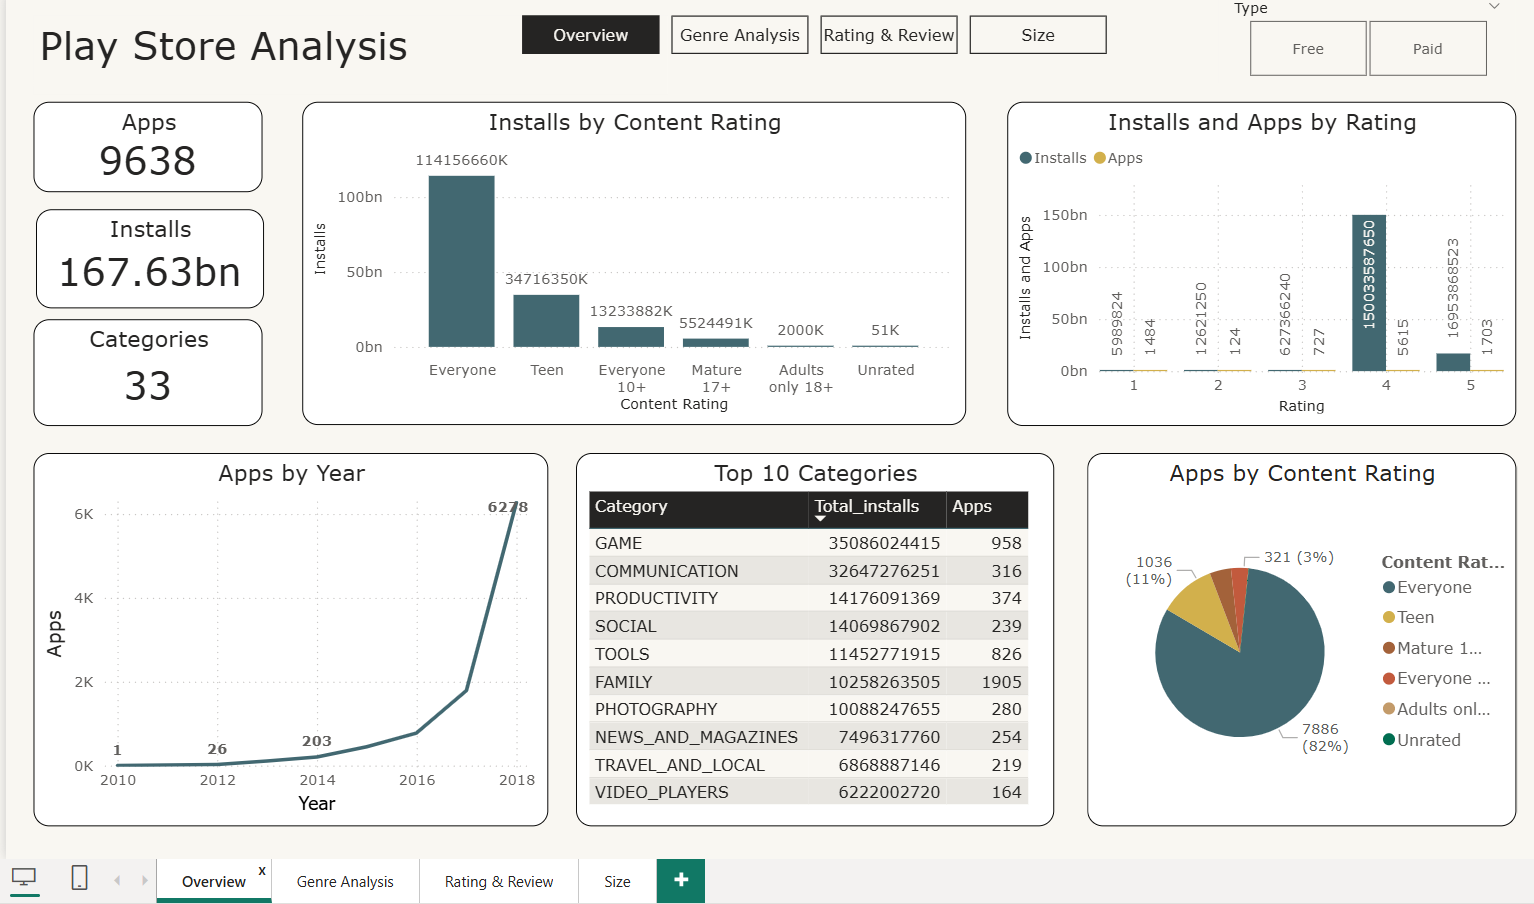

What the dashboard file says about the page in this screenshot:
{"tool":"powerbi","page":{"name":"Overview","canvas":[1280,720],"ordinal":0},"visuals":[{"type":"card","title":"Apps","fields":{"Values":["Measure Analysis.Apps"]},"box":[23.3,90.6,190.7,75.5],"z":0},{"type":"card","title":"Categories","fields":{"Values":["Count(Google_playStore.Category)"]},"box":[23.3,271.7,190.7,89.2],"z":1000},{"type":"columnChart","fields":{"Category":["Google_playStore.Content Rating"],"Y":["Measure Analysis.Total_installs"]},"box":[246.5,90.7,552.3,268.6],"z":2000},{"type":"pieChart","fields":{"Category":["Google_playStore.Content Rating"],"Y":["Measure Analysis.Apps"]},"box":[898.8,382.8,356.8,310.1],"z":3000},{"type":"clusteredColumnChart","fields":{"Category":["Google_playStore.New_Rating"],"Y":["Measure Analysis.Total_installs","Measure Analysis.Apps"]},"box":[832.6,90.7,423.3,269.8],"z":4000},{"type":"tableEx","title":"Top 10 Categories","fields":{"Values":["Google_playStore.Category","Measure Analysis.Total_installs","Google_playStore.App"]},"box":[474.4,382.6,397.7,310.5],"z":5000},{"type":"lineChart","fields":{"Category":["Google_playStore.Last Updated.Variation.Date Hierarchy.Year"],"Y":["Measure Analysis.Apps"]},"box":[23.3,382.6,427.9,310.5],"z":6000},{"type":"slicer","fields":{"Values":["Google_playStore.Type"]},"box":[1008.6,0,247,75.5],"z":7000},{"type":"textbox","box":[23.3,19.2,526.9,65.9],"z":8000},{"type":"card","title":"Installs","fields":{"Values":["Measure Analysis.Total_installs"]},"box":[24.7,179.8,189.4,82.3],"z":9000},{"type":"pageNavigator","box":[429.5,19.2,487.1,32.9],"z":10000}]}

Visuals, with their boxes on the page's 1280x720 design canvas (x1, y1, x2, y2). These are canvas units, not pixel positions in the 1534x904 screenshot, which may show the page scaled, cropped or inside an application window:
"Apps" card: box(23, 91, 214, 166)
"Categories" card: box(23, 272, 214, 361)
columnChart - Google_playStore.Content Rating x Measure Analysis.Total_installs: box(246, 91, 799, 359)
pieChart - Google_playStore.Content Rating x Measure Analysis.Apps: box(899, 383, 1256, 693)
clusteredColumnChart - Google_playStore.New_Rating x Measure Analysis.Total_installs: box(833, 91, 1256, 360)
"Top 10 Categories" tableEx: box(474, 383, 872, 693)
lineChart - Google_playStore.Last Updated.Variation.Date Hierarchy.Year x Measure Analysis.Apps: box(23, 383, 451, 693)
slicer - Google_playStore.Type: box(1009, 0, 1256, 76)
textbox: box(23, 19, 550, 85)
"Installs" card: box(25, 180, 214, 262)
pageNavigator: box(430, 19, 917, 52)
